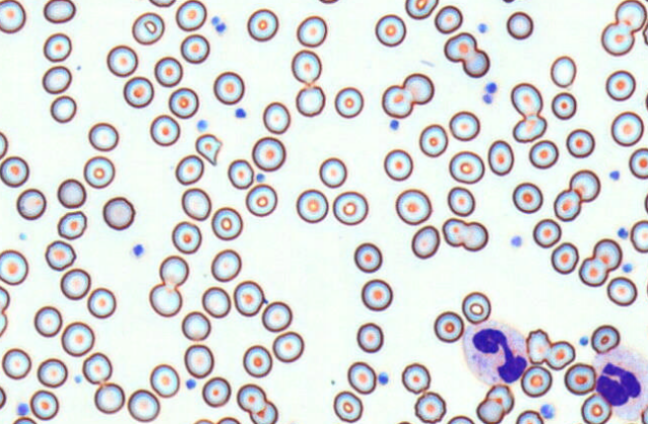GRAN: (462, 320, 533, 384), (593, 349, 648, 421)
PLT: (540, 403, 555, 421), (195, 118, 211, 132), (132, 244, 147, 258), (233, 107, 247, 121), (376, 372, 390, 386), (618, 226, 632, 240), (622, 262, 634, 276), (389, 118, 401, 131), (16, 403, 29, 415), (217, 22, 229, 34), (185, 379, 197, 391), (610, 169, 622, 181), (485, 81, 496, 93), (481, 95, 492, 106), (580, 335, 590, 347), (512, 235, 522, 247), (477, 22, 487, 33), (210, 15, 220, 24)
RBC: (395, 188, 432, 225), (332, 190, 368, 225), (448, 150, 484, 184), (600, 21, 634, 56), (251, 136, 285, 171), (610, 111, 644, 146), (510, 82, 543, 117), (149, 282, 182, 317), (61, 321, 94, 356), (295, 188, 328, 223), (127, 388, 160, 422), (102, 196, 135, 230), (233, 280, 264, 316), (131, 12, 164, 45), (381, 84, 413, 118), (211, 206, 243, 240), (564, 362, 596, 395), (106, 44, 138, 77), (360, 278, 392, 311), (245, 183, 277, 216), (374, 14, 406, 47), (83, 155, 115, 188), (246, 8, 278, 41), (443, 31, 477, 62), (183, 344, 214, 378), (210, 248, 241, 282), (291, 49, 321, 84), (402, 72, 434, 104), (520, 365, 552, 397), (414, 391, 446, 423), (569, 169, 600, 202), (615, 0, 646, 33), (433, 310, 464, 343), (213, 71, 244, 104), (149, 363, 179, 397), (171, 220, 201, 254), (418, 123, 448, 157), (0, 249, 28, 285), (94, 382, 125, 414), (512, 181, 543, 213), (261, 300, 292, 332), (448, 110, 480, 141), (272, 331, 304, 362), (123, 76, 154, 108), (149, 114, 180, 146), (605, 69, 636, 101), (296, 15, 327, 47), (592, 238, 622, 271), (159, 254, 189, 287), (461, 291, 491, 324), (181, 187, 211, 220), (242, 344, 272, 377), (383, 148, 413, 181), (411, 225, 440, 259), (487, 139, 514, 175), (175, 0, 206, 31), (580, 393, 612, 423), (82, 352, 112, 384), (1, 347, 31, 379), (333, 390, 363, 422), (60, 268, 90, 300), (201, 286, 231, 318), (44, 240, 76, 270), (295, 85, 325, 117), (16, 188, 46, 220), (347, 361, 376, 394), (512, 114, 546, 142), (606, 276, 637, 306), (201, 376, 231, 407), (36, 357, 67, 387), (29, 389, 59, 420), (168, 87, 198, 118), (401, 362, 430, 394), (0, 155, 29, 187), (33, 305, 62, 337), (318, 156, 347, 188), (334, 86, 363, 118), (262, 101, 290, 134), (545, 340, 575, 370), (236, 383, 266, 413), (528, 139, 558, 169), (565, 128, 595, 158), (485, 383, 514, 414), (181, 310, 210, 341), (175, 154, 204, 185), (87, 287, 116, 318), (154, 56, 183, 87), (353, 242, 382, 273), (553, 189, 581, 221), (550, 242, 578, 274), (578, 257, 608, 286), (532, 218, 561, 248), (590, 324, 620, 353), (57, 178, 86, 208), (180, 33, 209, 63), (57, 210, 87, 239), (88, 122, 118, 151), (0, 0, 26, 33), (434, 4, 463, 33), (42, 65, 71, 94), (462, 48, 490, 78), (447, 186, 475, 216), (43, 32, 71, 62), (227, 158, 254, 189), (356, 322, 383, 353), (550, 55, 576, 87), (461, 221, 488, 251), (43, 0, 76, 23), (506, 11, 533, 39), (50, 95, 76, 123), (442, 217, 467, 246), (476, 398, 505, 423), (551, 91, 576, 120), (249, 400, 278, 423), (404, 0, 438, 19), (628, 147, 647, 179), (630, 219, 647, 253), (515, 409, 544, 423), (0, 285, 9, 312), (0, 131, 8, 159), (446, 415, 474, 423), (148, 0, 176, 7), (0, 312, 7, 337), (216, 416, 240, 423), (12, 416, 36, 423), (642, 21, 648, 46), (0, 385, 6, 409), (641, 404, 648, 423), (192, 418, 214, 423), (644, 88, 648, 112), (644, 191, 648, 214), (645, 272, 648, 301), (318, 0, 339, 4), (395, 420, 412, 424), (501, 0, 516, 3)
Schistocyte: (194, 133, 225, 167), (527, 331, 548, 364)
